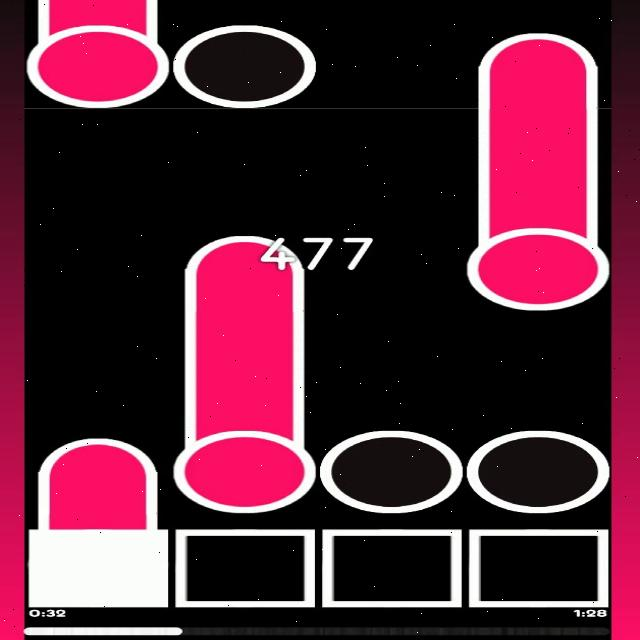end_hold: (36, 427, 158, 483), (180, 225, 306, 275), (481, 26, 602, 68)
note: (173, 24, 316, 111), (468, 429, 608, 513), (322, 430, 460, 515)
start_hold: (173, 400, 316, 513), (466, 208, 608, 312), (25, 18, 169, 110)
